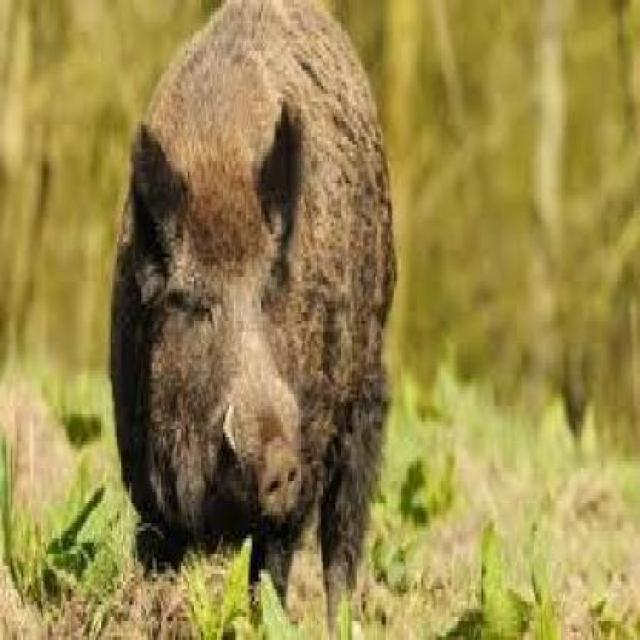wildboar: (104, 3, 398, 640)
